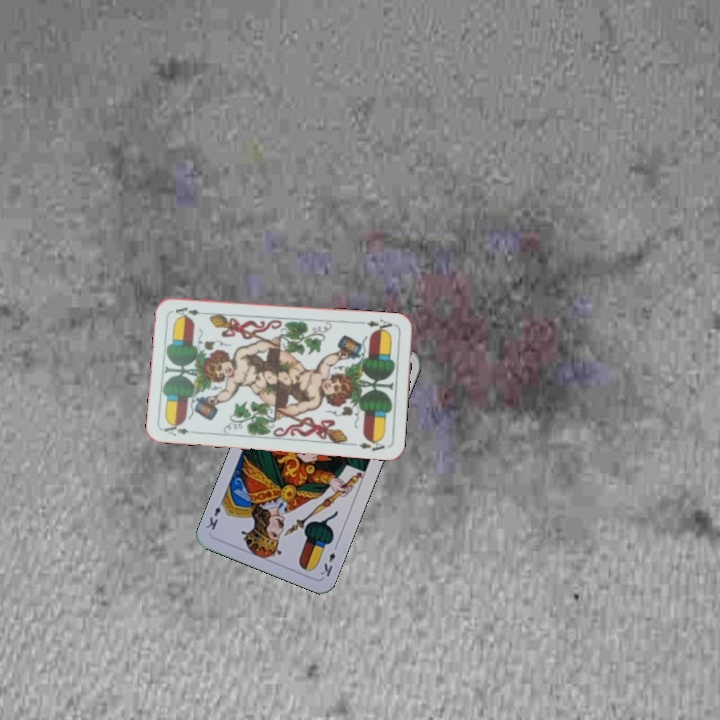EA: (357, 314, 398, 335), (160, 419, 201, 439)
EK: (316, 540, 341, 579)
